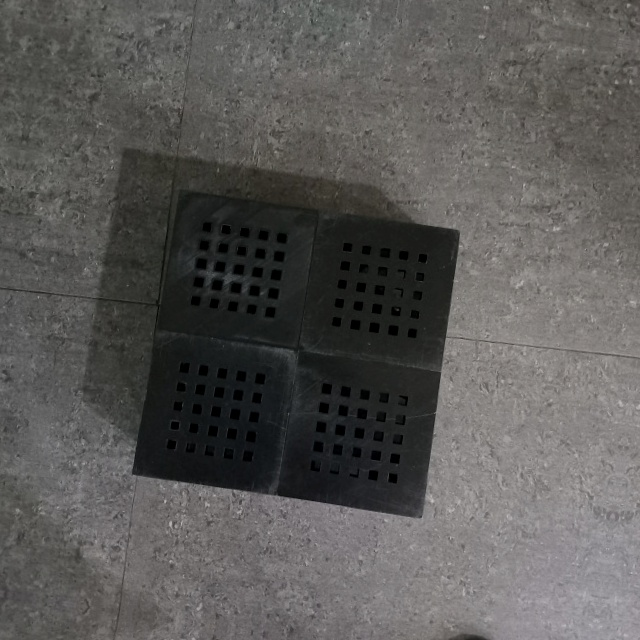pallet: (122, 177, 466, 531)
